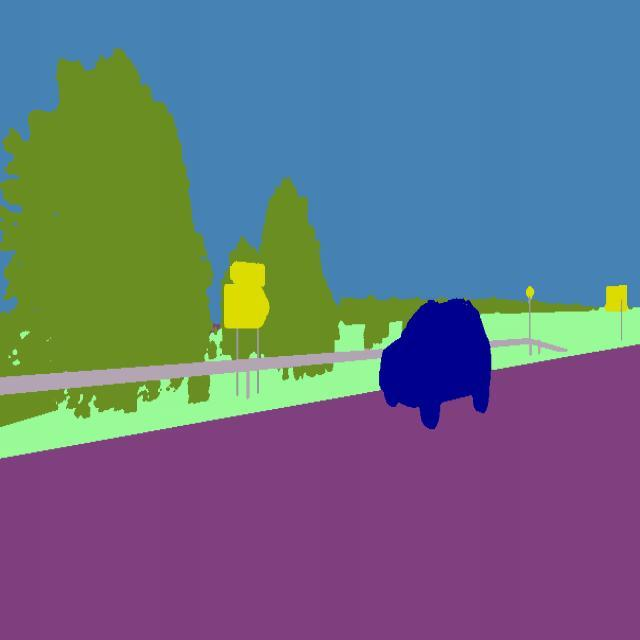safe: (376, 285, 500, 436)
